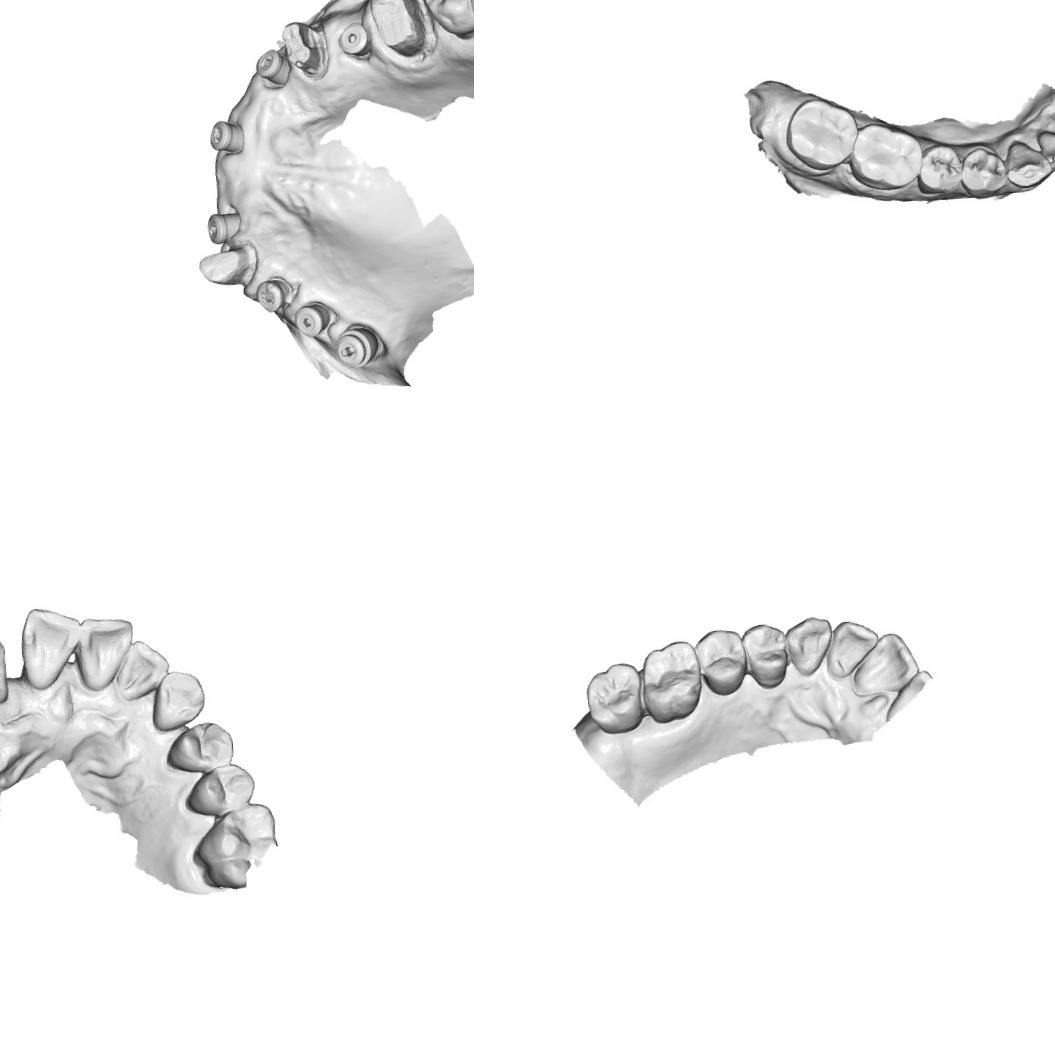canine: (148, 667, 208, 734), (783, 614, 834, 678), (1000, 135, 1054, 191)
crown: (367, 0, 430, 60), (279, 16, 328, 80), (194, 246, 257, 288)
implant: (292, 300, 334, 340), (335, 20, 371, 60)
implant_minus: (333, 324, 381, 370), (204, 112, 247, 156), (252, 44, 290, 88), (203, 210, 242, 244), (256, 278, 288, 314)
incisor: (15, 604, 86, 692), (72, 613, 138, 692), (849, 628, 922, 697), (112, 636, 172, 704), (823, 616, 882, 680), (1034, 125, 1055, 172)
molar: (189, 800, 279, 892), (781, 92, 861, 174), (844, 118, 926, 194), (638, 638, 705, 725), (582, 660, 644, 736), (415, 0, 474, 39)
premolar: (185, 759, 258, 818), (692, 626, 750, 699), (162, 720, 236, 775), (738, 620, 790, 690), (957, 144, 1008, 200), (914, 139, 964, 196)
